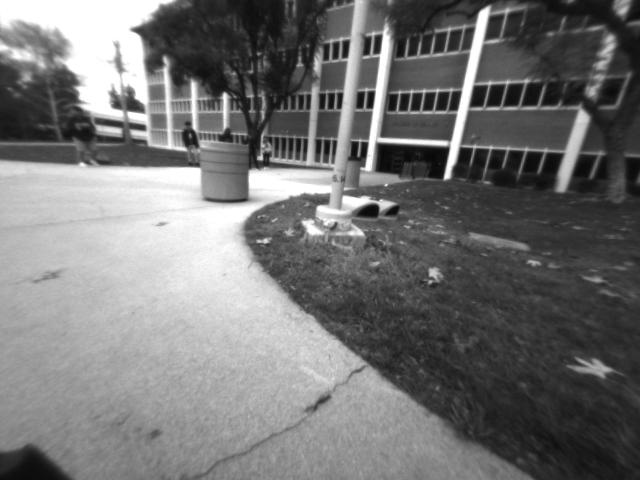trashcan: (194, 131, 257, 208), (345, 152, 363, 191)
